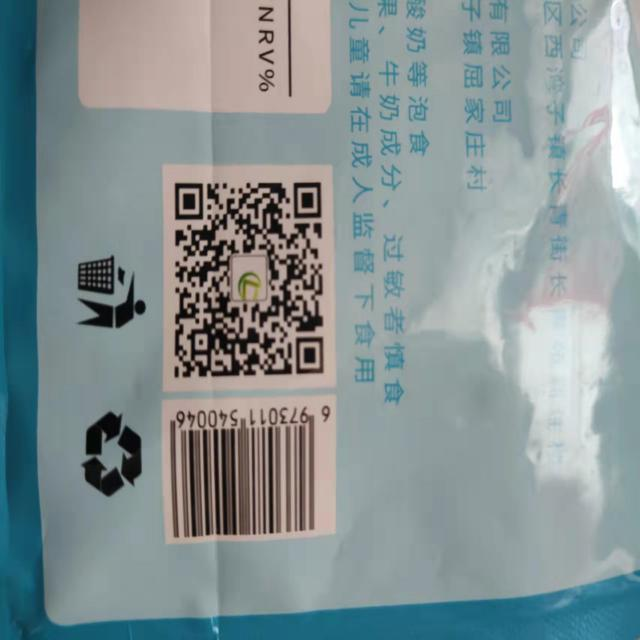qr_code: (174, 182, 323, 378)
